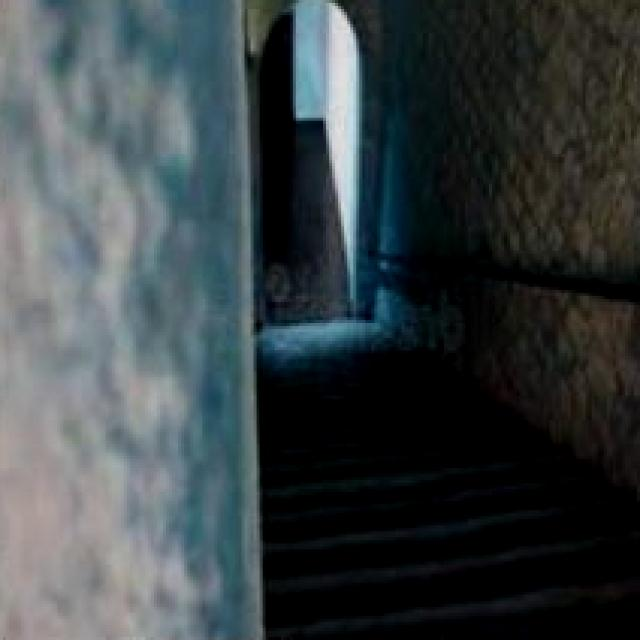downstair: (257, 466, 640, 635)
